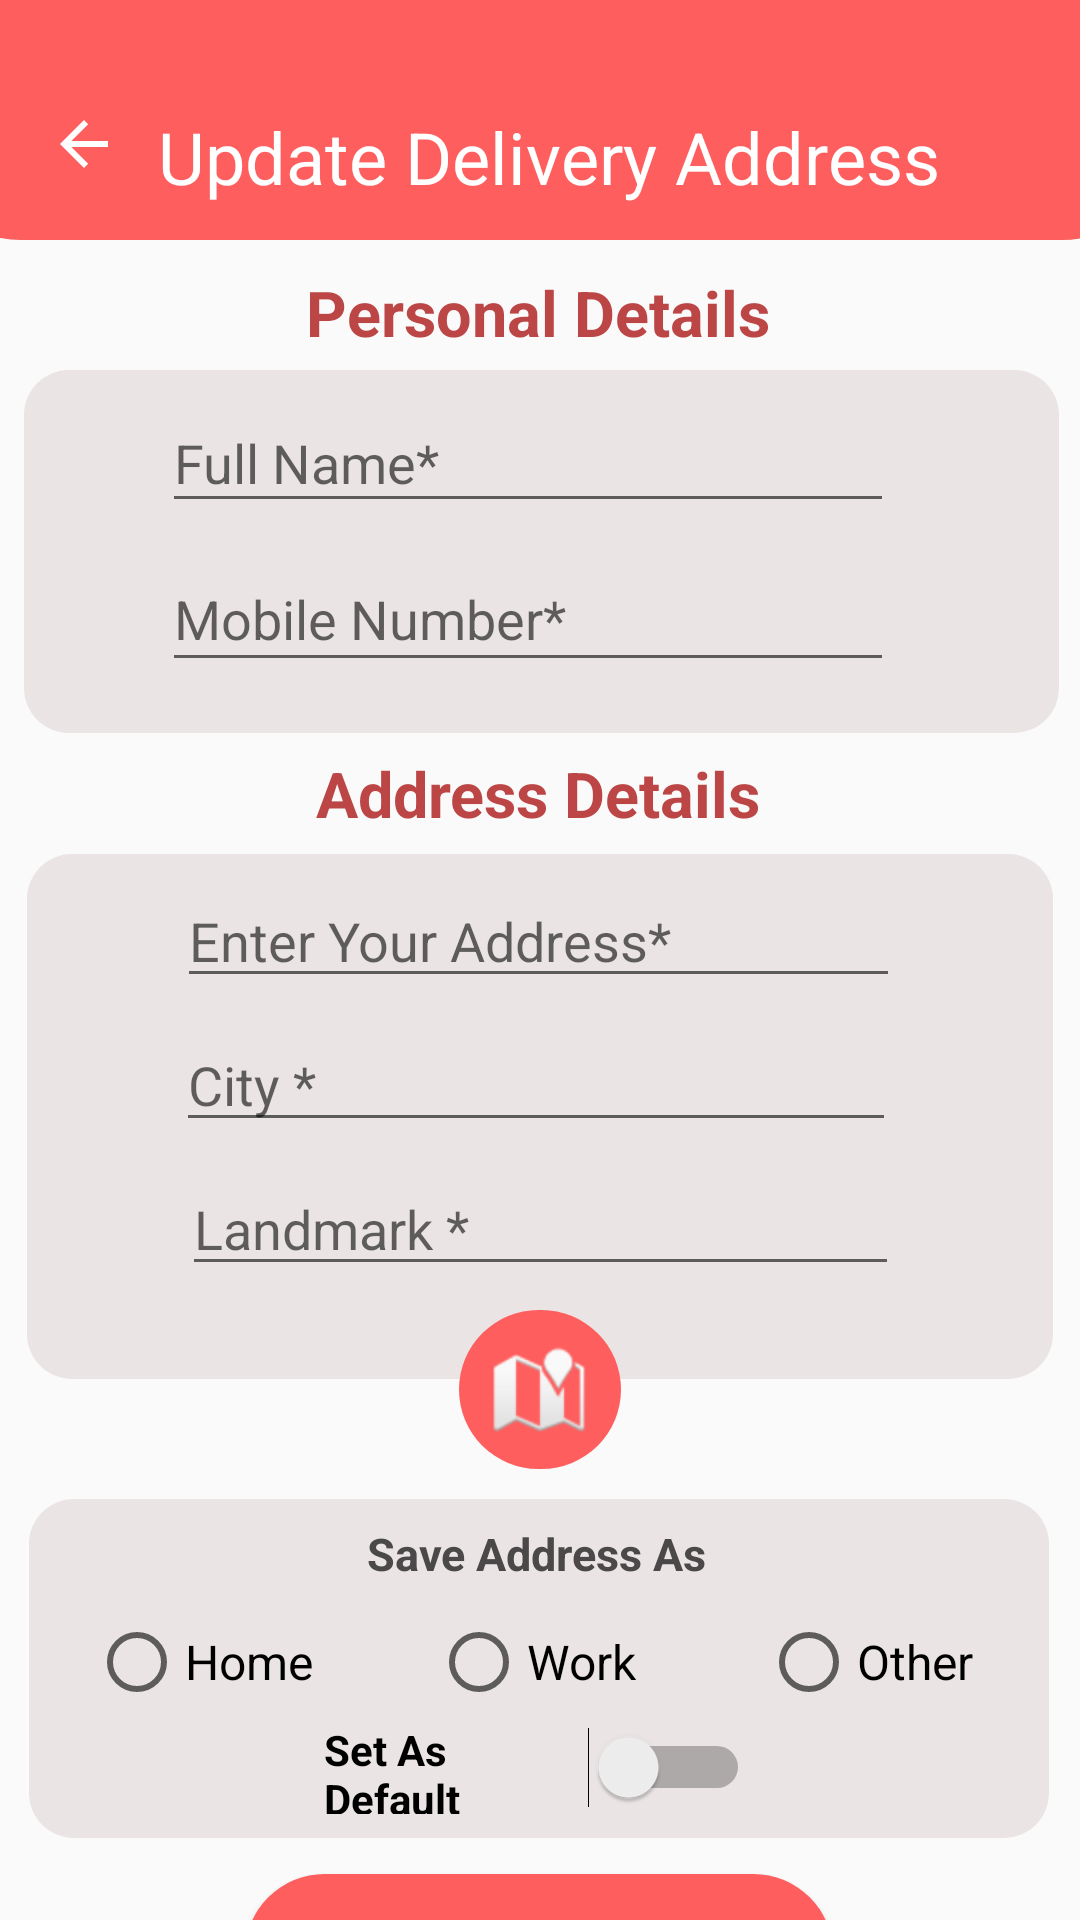

Locate icon controls on the screen. Image size 1080×1920, boxes as bbox=(x1, y1, x2, y2).
map: bbox=(459, 1310, 621, 1469)
